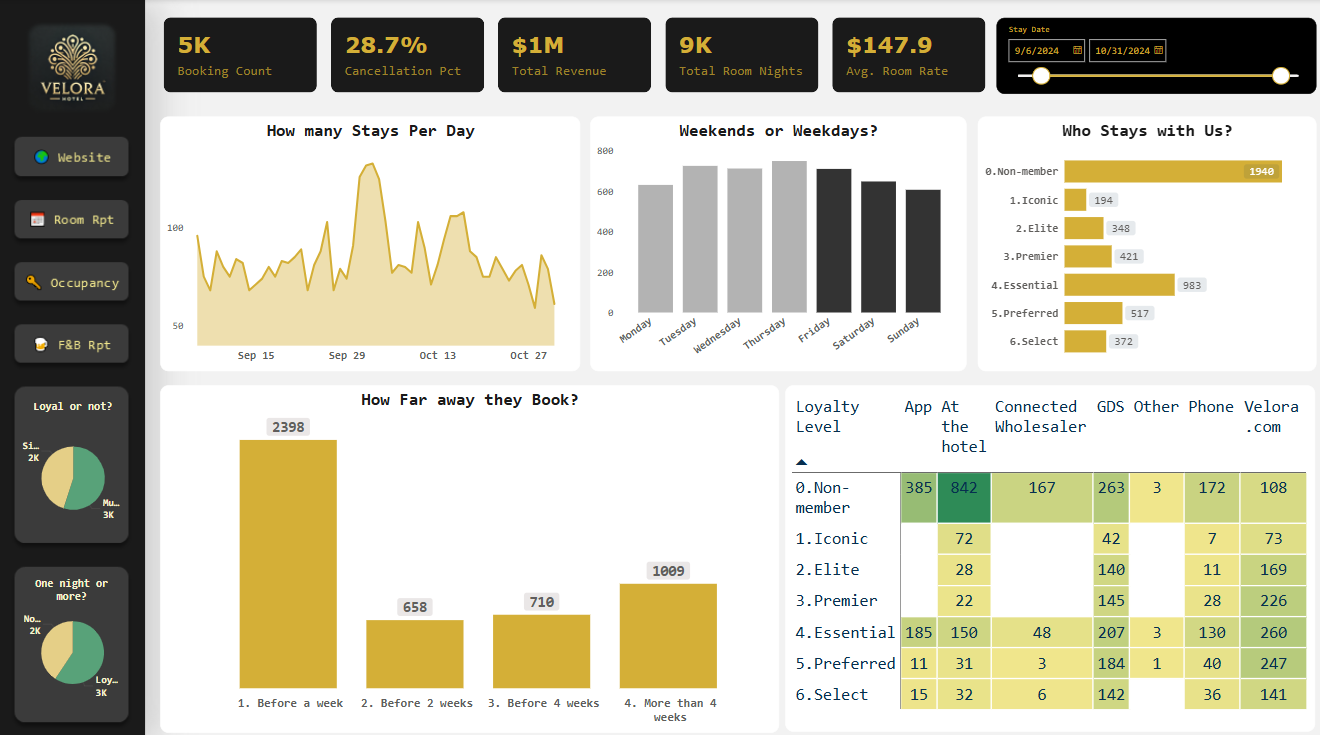

The page's visual inventory and layout, read from the dashboard file:
{"tool":"powerbi","page":{"name":"Bookings Report ","canvas":[1920,1080],"ordinal":0},"visuals":[{"type":"cardVisual","fields":{"Data":["bookings.Booking Count","bookings.Cancellation Pct","bookings.Total Revenue","bookings.Total Room Nights","bookings.Avg. Room Rate"]},"box":[233.6,21.8,1200,119.1],"z":0},{"type":"lineChart","title":"How many Stays Per Day","fields":{"Category":["bookings.Stay Date"],"Y":["bookings.Booking Count"]},"box":[233.4,170.1,608,369.2],"z":1000},{"type":"slicer","fields":{"Values":["bookings.Stay Date"]},"box":[1443.8,26.9,463.1,110.8],"z":2000},{"type":"clusteredColumnChart","title":"Weekends or Weekdays?","fields":{"Category":["bookings.Day Name"],"Y":["bookings.Booking Count"]},"box":[856,170.1,544.7,369.2],"z":3000},{"type":"clusteredBarChart","title":"Who Stays with Us?","fields":{"Category":["bookings.Loyalty Level"],"Y":["bookings.Booking Count"]},"box":[1417,170.1,490.4,369.2],"z":4000},{"type":"clusteredColumnChart","title":"How Far away they Book?","fields":{"Category":["bookings.How far away bucket"],"Y":["bookings.Booking Count"]},"box":[233.4,559.2,895.8,503.1],"z":5000},{"type":"pivotTable","fields":{"Rows":["bookings.Loyalty Level"],"Columns":["bookings.Booking Channel"],"Values":["bookings.Booking Count"]},"box":[1138.8,559.4,766.9,501.2],"z":6000},{"type":"pieChart","fields":{"Y":["bookings.Loyal Customer Booking Count","bookings.Not Loyal Customer Booking Count"]},"box":[28.6,865.7,155.7,162.9],"z":6001},{"type":"pieChart","fields":{"Y":["bookings.Multi-night booking count","bookings.Single night booking count"]},"box":[28.6,618.6,157.1,150],"z":6002},{"type":"textbox","box":[28.3,575,155.8,31.7],"z":6003},{"type":"textbox","box":[27.7,832.3,156.2,53.8],"z":6004}]}

Visuals, with their boxes on the page's 1920x1080 design canvas (x1, y1, x2, y2). These are canvas units, not pixel positions in the 1320x735 screenshot, which may show the page scaled, cropped or inside an application window:
cardVisual - bookings.Booking Count x bookings.Cancellation Pct: BBox(234, 22, 1434, 141)
"How many Stays Per Day" lineChart: BBox(233, 170, 841, 539)
slicer - bookings.Stay Date: BBox(1444, 27, 1907, 138)
"Weekends or Weekdays?" clusteredColumnChart: BBox(856, 170, 1401, 539)
"Who Stays with Us?" clusteredBarChart: BBox(1417, 170, 1907, 539)
"How Far away they Book?" clusteredColumnChart: BBox(233, 559, 1129, 1062)
pivotTable - bookings.Loyalty Level x bookings.Booking Channel: BBox(1139, 559, 1906, 1061)
pieChart - bookings.Loyal Customer Booking Count x bookings.Not Loyal Customer Booking Count: BBox(29, 866, 184, 1029)
pieChart - bookings.Multi-night booking count x bookings.Single night booking count: BBox(29, 619, 186, 769)
textbox: BBox(28, 575, 184, 607)
textbox: BBox(28, 832, 184, 886)
